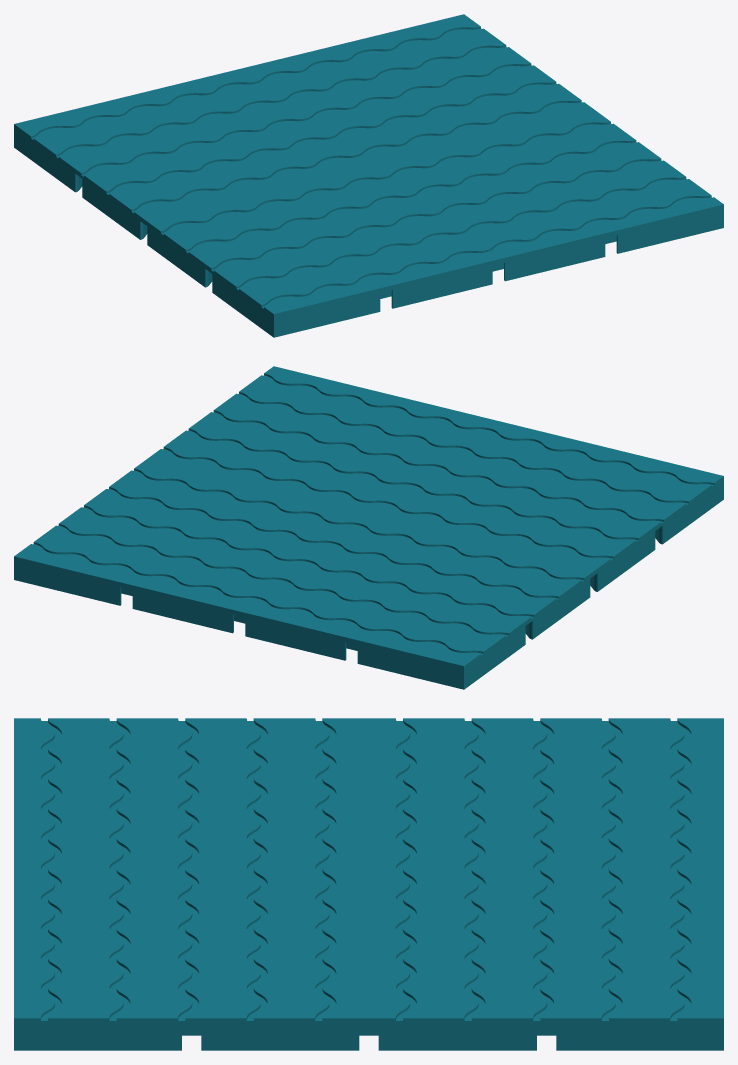
Rendered from 10x10 Water.obj.
3 views of the same model, one above another, from view 1: azimuth 30°, elevation 25°; view 2: azimuth 150°, elevation 25°; view 3: azimuth 270°, elevation 25° (orthographic). The views are drawn at different scales.
Visible parts, largest first — view 1: Körper1; view 2: Körper1; view 3: Körper1.
Part boxes in pixels (x1,y1,x2,y2): Körper1: [14, 14, 723, 337]; Körper1: [14, 366, 723, 689]; Körper1: [14, 718, 723, 1050].
Size of the model in its own units: 100 by 5 by 100.
